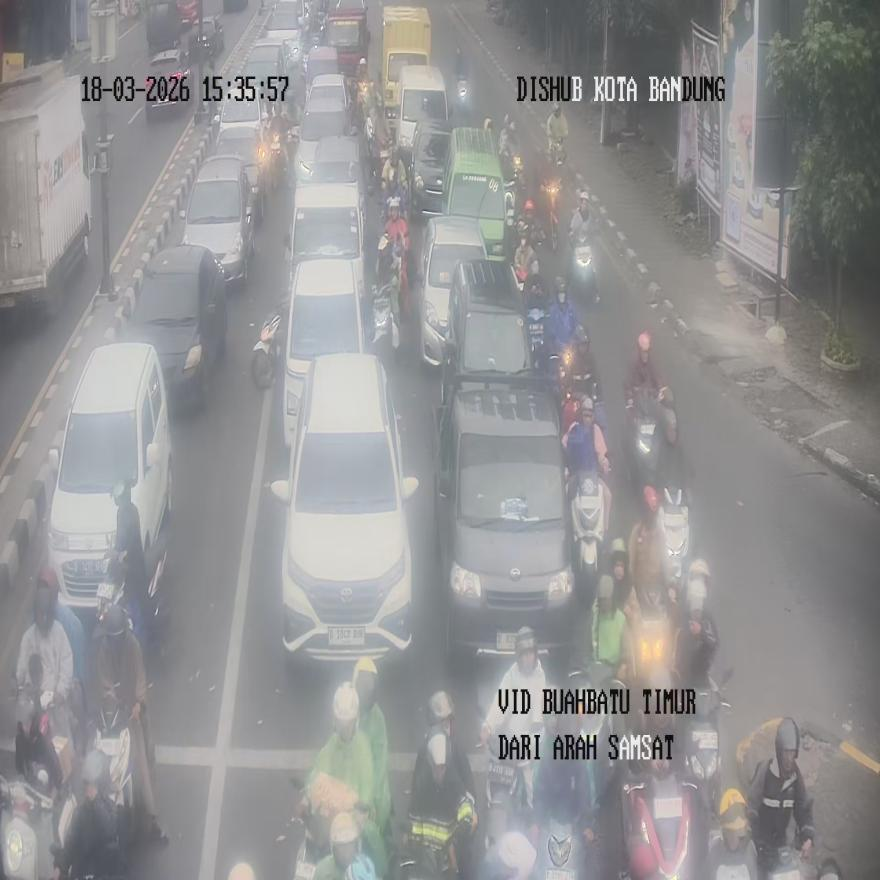Mobil: (269, 352, 418, 667), (433, 381, 576, 666), (47, 342, 171, 614), (119, 245, 226, 411), (282, 258, 365, 448), (420, 215, 492, 368), (182, 156, 258, 286)
Motor: (706, 789, 756, 879)
Truk ringan: (380, 5, 431, 118)
